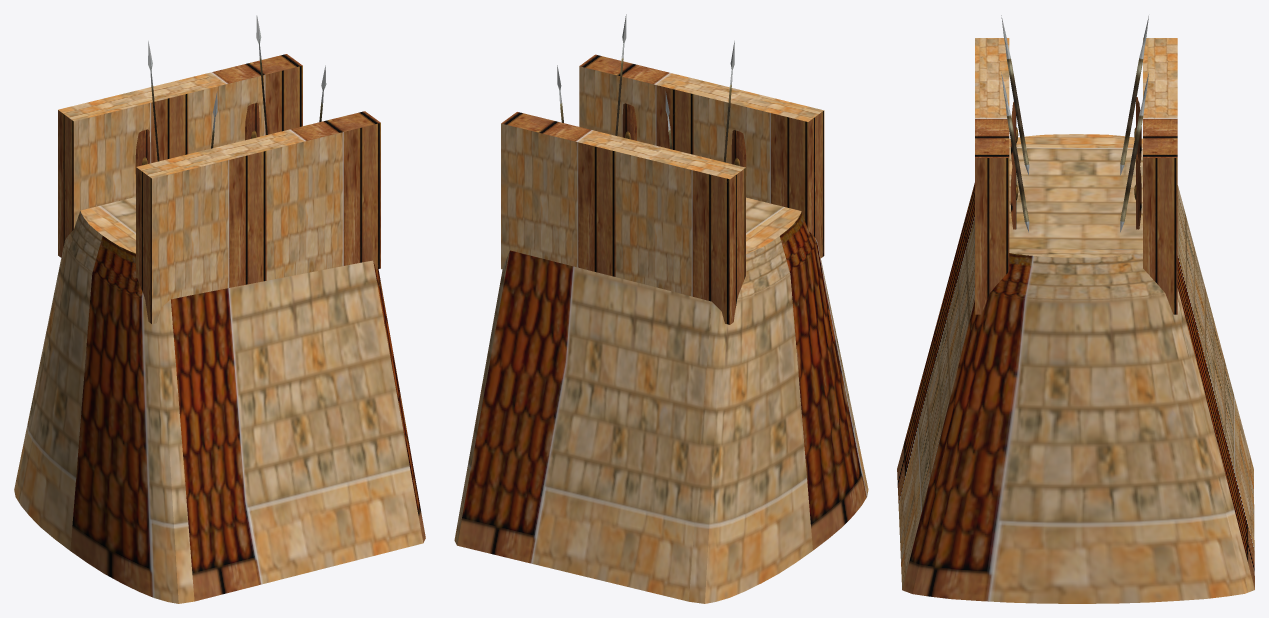
The model's file is wall_short.dae.
3 renders of one model, left to right at view 1: azimuth 30°, elevation 25°; view 2: azimuth 150°, elevation 25°; view 3: azimuth 270°, elevation 25°, orthographic. The views are drawn at different scales.
Visible parts, largest first — view 1: wall_short; view 2: wall_short; view 3: wall_short.
Part boxes in pixels (box(x1,y1,x2,y2)): wall_short: box(14, 15, 425, 603); wall_short: box(454, 14, 868, 603); wall_short: box(897, 15, 1254, 603).
Bounding box in the file's own units: 11.49 × 11.09 × 16.83.
